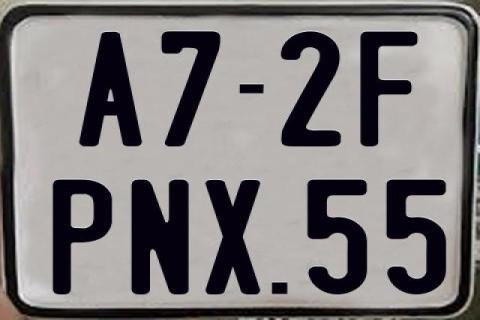0: (279, 31, 343, 149), (385, 179, 446, 296), (159, 29, 219, 147), (305, 177, 365, 293)
A: (80, 30, 146, 150)
F: (357, 29, 416, 147)
N: (130, 178, 188, 294)
P: (52, 177, 112, 295)
X: (202, 179, 260, 296)
